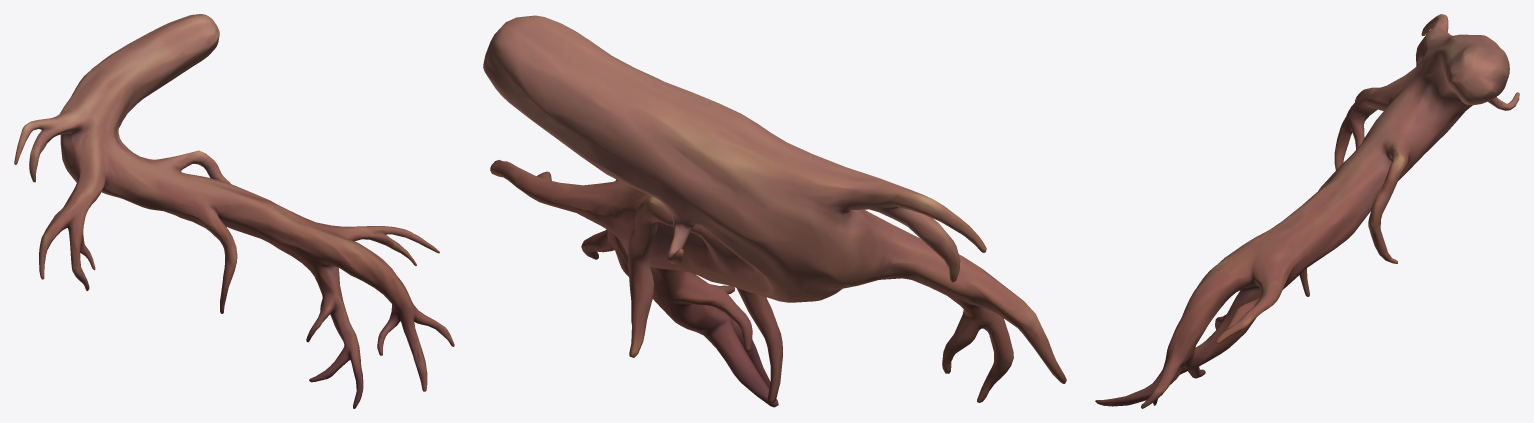
File: bog_root_pathway.glb
3 renders of one model, left to right at view 1: azimuth 30°, elevation 25°; view 2: azimuth 150°, elevation 25°; view 3: azimuth 270°, elevation 25°, orthographic. The views are drawn at different scales.
Parts seen in each view (by area): view 1: SM_XBOG_STL_RootPathway_01A; view 2: SM_XBOG_STL_RootPathway_01A; view 3: SM_XBOG_STL_RootPathway_01A.
Boxes of the visible parts, x1,y1,x2,y2 form: SM_XBOG_STL_RootPathway_01A: [14, 14, 454, 408]; SM_XBOG_STL_RootPathway_01A: [483, 15, 1066, 407]; SM_XBOG_STL_RootPathway_01A: [1095, 14, 1519, 408].
Bounding box in the file's own units: 28.59 × 23.58 × 26.65.
1 material, 1 textured.
